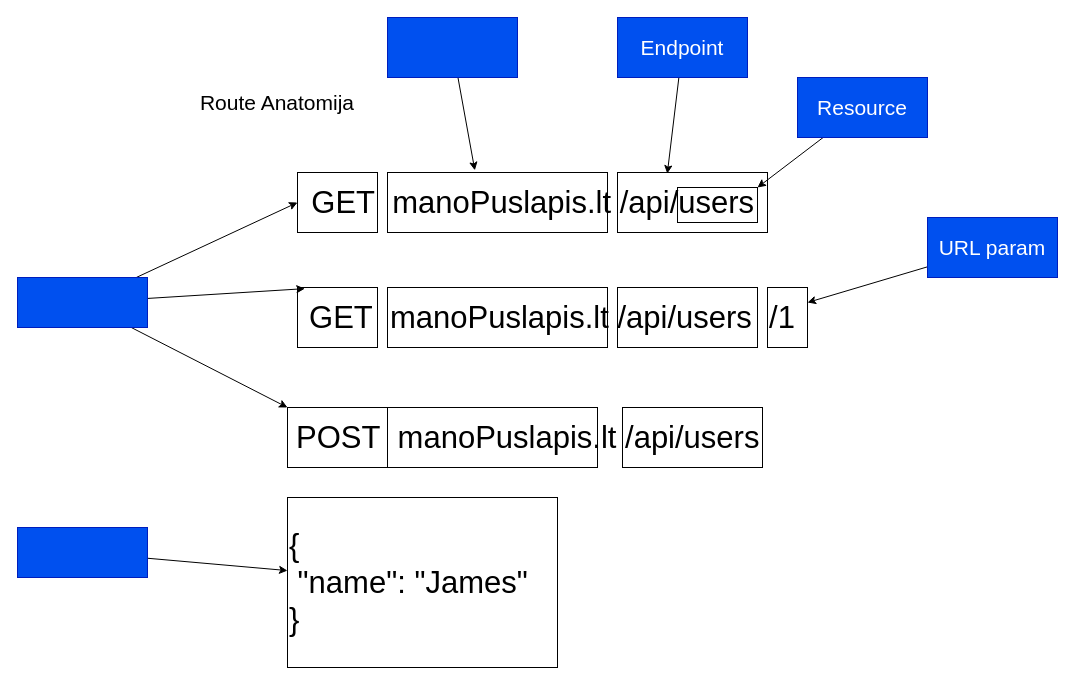
Some shapes in this 1075 by 685 pixel diagram are drawn without their labels. The shapes that lost their labels are listed below. From the top down, each one's centre as x and y in pixels, then its label:
[452,47]: Domain Name
[82,302]: Metodas
[82,552]: REQ BODY
